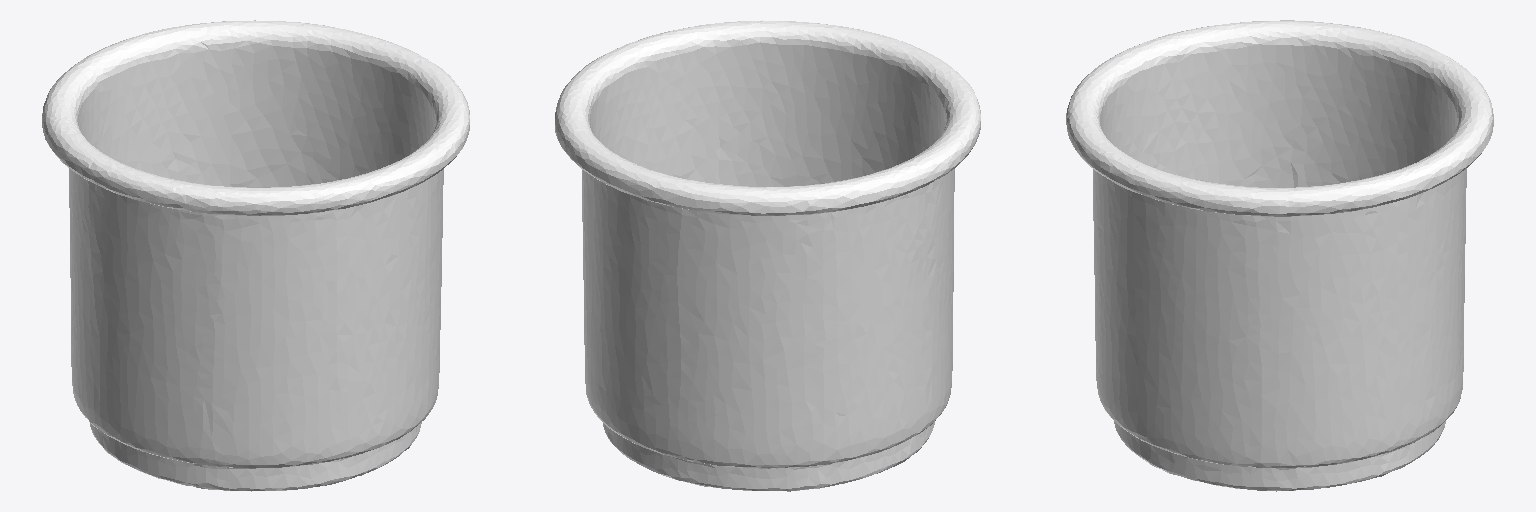
The robot description file, URDF, robot "029_plate":
<robot name="029_plate">
	<link name="_name">
		<visual>
			<origin xyz="0.10005972478719946 -0.0124693956338112 -0.08849692580074854" rpy="0 0 0" />
			<geometry>
				<mesh filename="029_plate/google_16k/textured.obj" scale="10 10 10" />
			</geometry>
			<material name="texture">
				<color rgba="1.0 1.0 1.0 1.0" />
			</material>
		</visual>
		<collision>
			<geometry>
				<mesh filename="029_plate/google_16k/textured_vhacd.obj" scale="10 10 10" />
			</geometry>
		<origin xyz="0.10005972478719946 -0.0124693956338112 -0.08849692580074854" rpy="0 0 0" /></collision>
		<inertial>
			<mass value="1.0" />
			<inertia ixx="1.0" ixy="0.0" ixz="0.0" iyy="1.0" iyz="0.0" izz="1.0" />
		</inertial>
	</link>
</robot>

--- What the picture shows (computed from the rendered views, not written in the file) ---
Views: 3 orthographic renders of the robot side by side, from view 1: azimuth 30°, elevation 25°; view 2: azimuth 150°, elevation 25°; view 3: azimuth 270°, elevation 25°.
Model 029_plate with 1 links and 0 joints (none), rooted at _name, posed all joints at 0.
Links seen in each view (by area): view 1: _name; view 2: _name; view 3: _name.
Link boxes in pixels (x1=…): _name: x1=42, y1=20, x2=469, y2=491; _name: x1=555, y1=20, x2=980, y2=491; _name: x1=1066, y1=20, x2=1493, y2=491.
Bounding box of the posed robot: 0.915 × 0.9162 × 0.7506 m (x, y, z).
Meshes: 1 distinct files referenced, 1 mesh visuals loaded (1 OBJ).